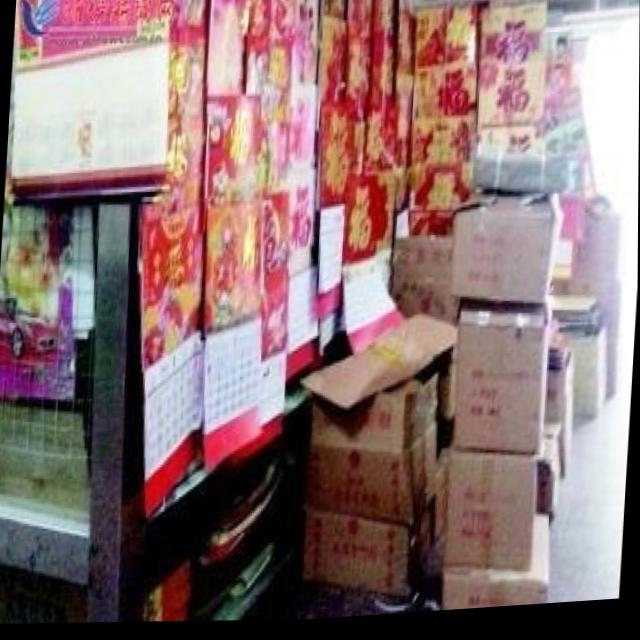box: (453, 306, 552, 461), (307, 427, 437, 529), (452, 197, 564, 311), (303, 507, 433, 603), (446, 452, 537, 578), (312, 372, 438, 456), (443, 521, 552, 617)
